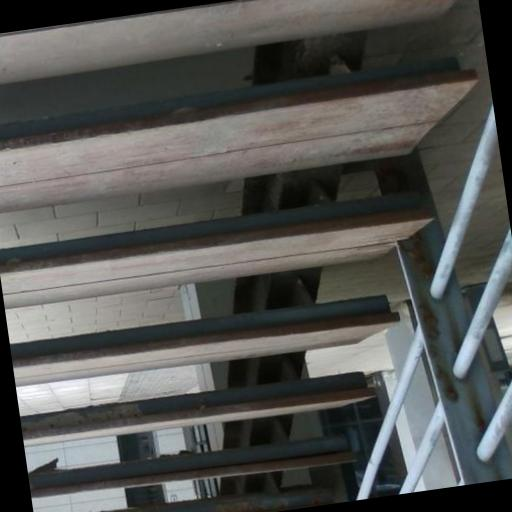stairs: (0, 59, 474, 210), (0, 60, 475, 210), (0, 193, 430, 307), (0, 0, 451, 82), (10, 295, 398, 384), (21, 372, 372, 445), (28, 436, 353, 497)
